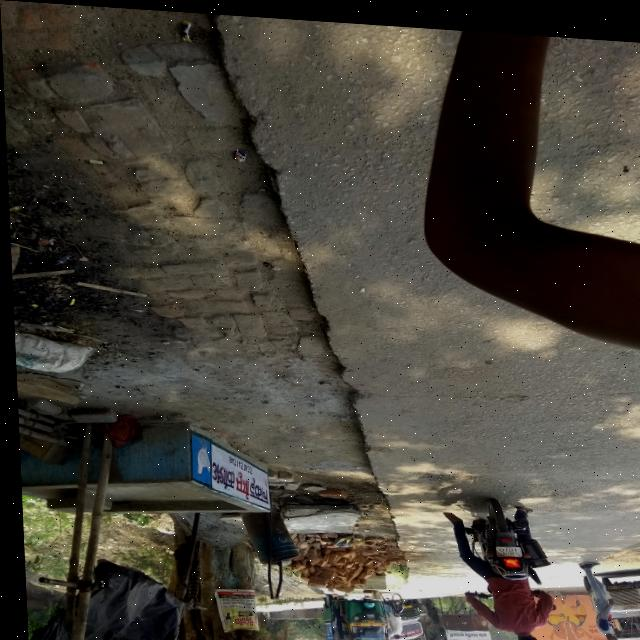plate: (490, 538, 517, 551), (603, 575, 626, 582), (362, 615, 370, 620)
